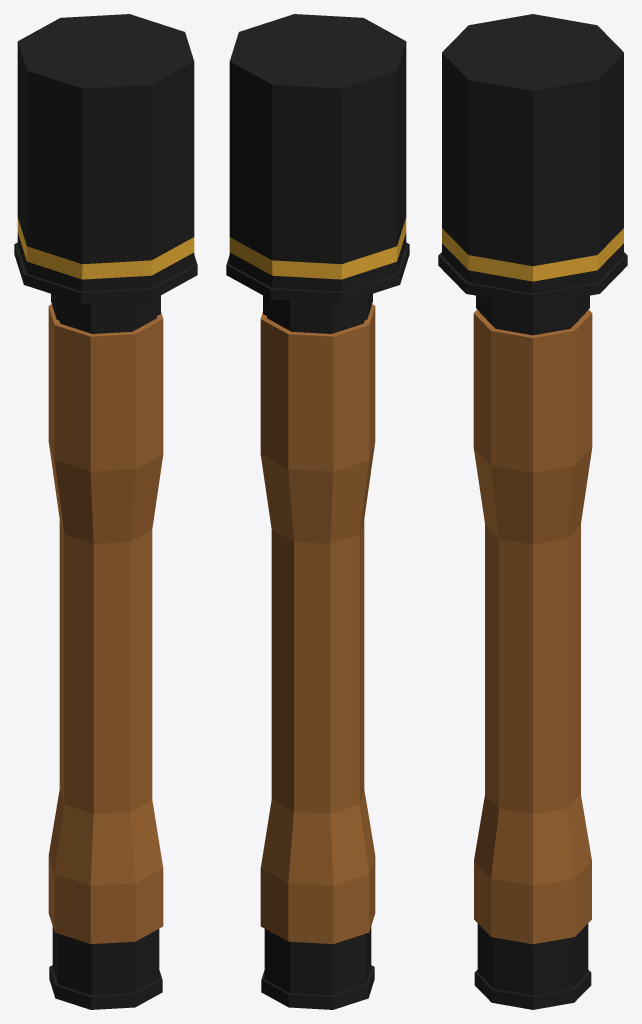
The model's file is Stick_Grenade.fbx.
The picture shows the model from 3 angles, left to right: view 1: azimuth 30°, elevation 25°; view 2: azimuth 150°, elevation 25°; view 3: azimuth 270°, elevation 25°; orthographic projection.
Parts seen in each view (by area): view 1: Stick Grenade; view 2: Stick Grenade; view 3: Stick Grenade.
Part boxes in pixels (bbox=[...]): Stick Grenade: bbox=[14, 14, 197, 1009]; Stick Grenade: bbox=[226, 14, 409, 1009]; Stick Grenade: bbox=[438, 14, 627, 1009].
Bounding box in the file's own units: 352 × 1912 × 352.
Materials: 1 (1 with a texture image).
